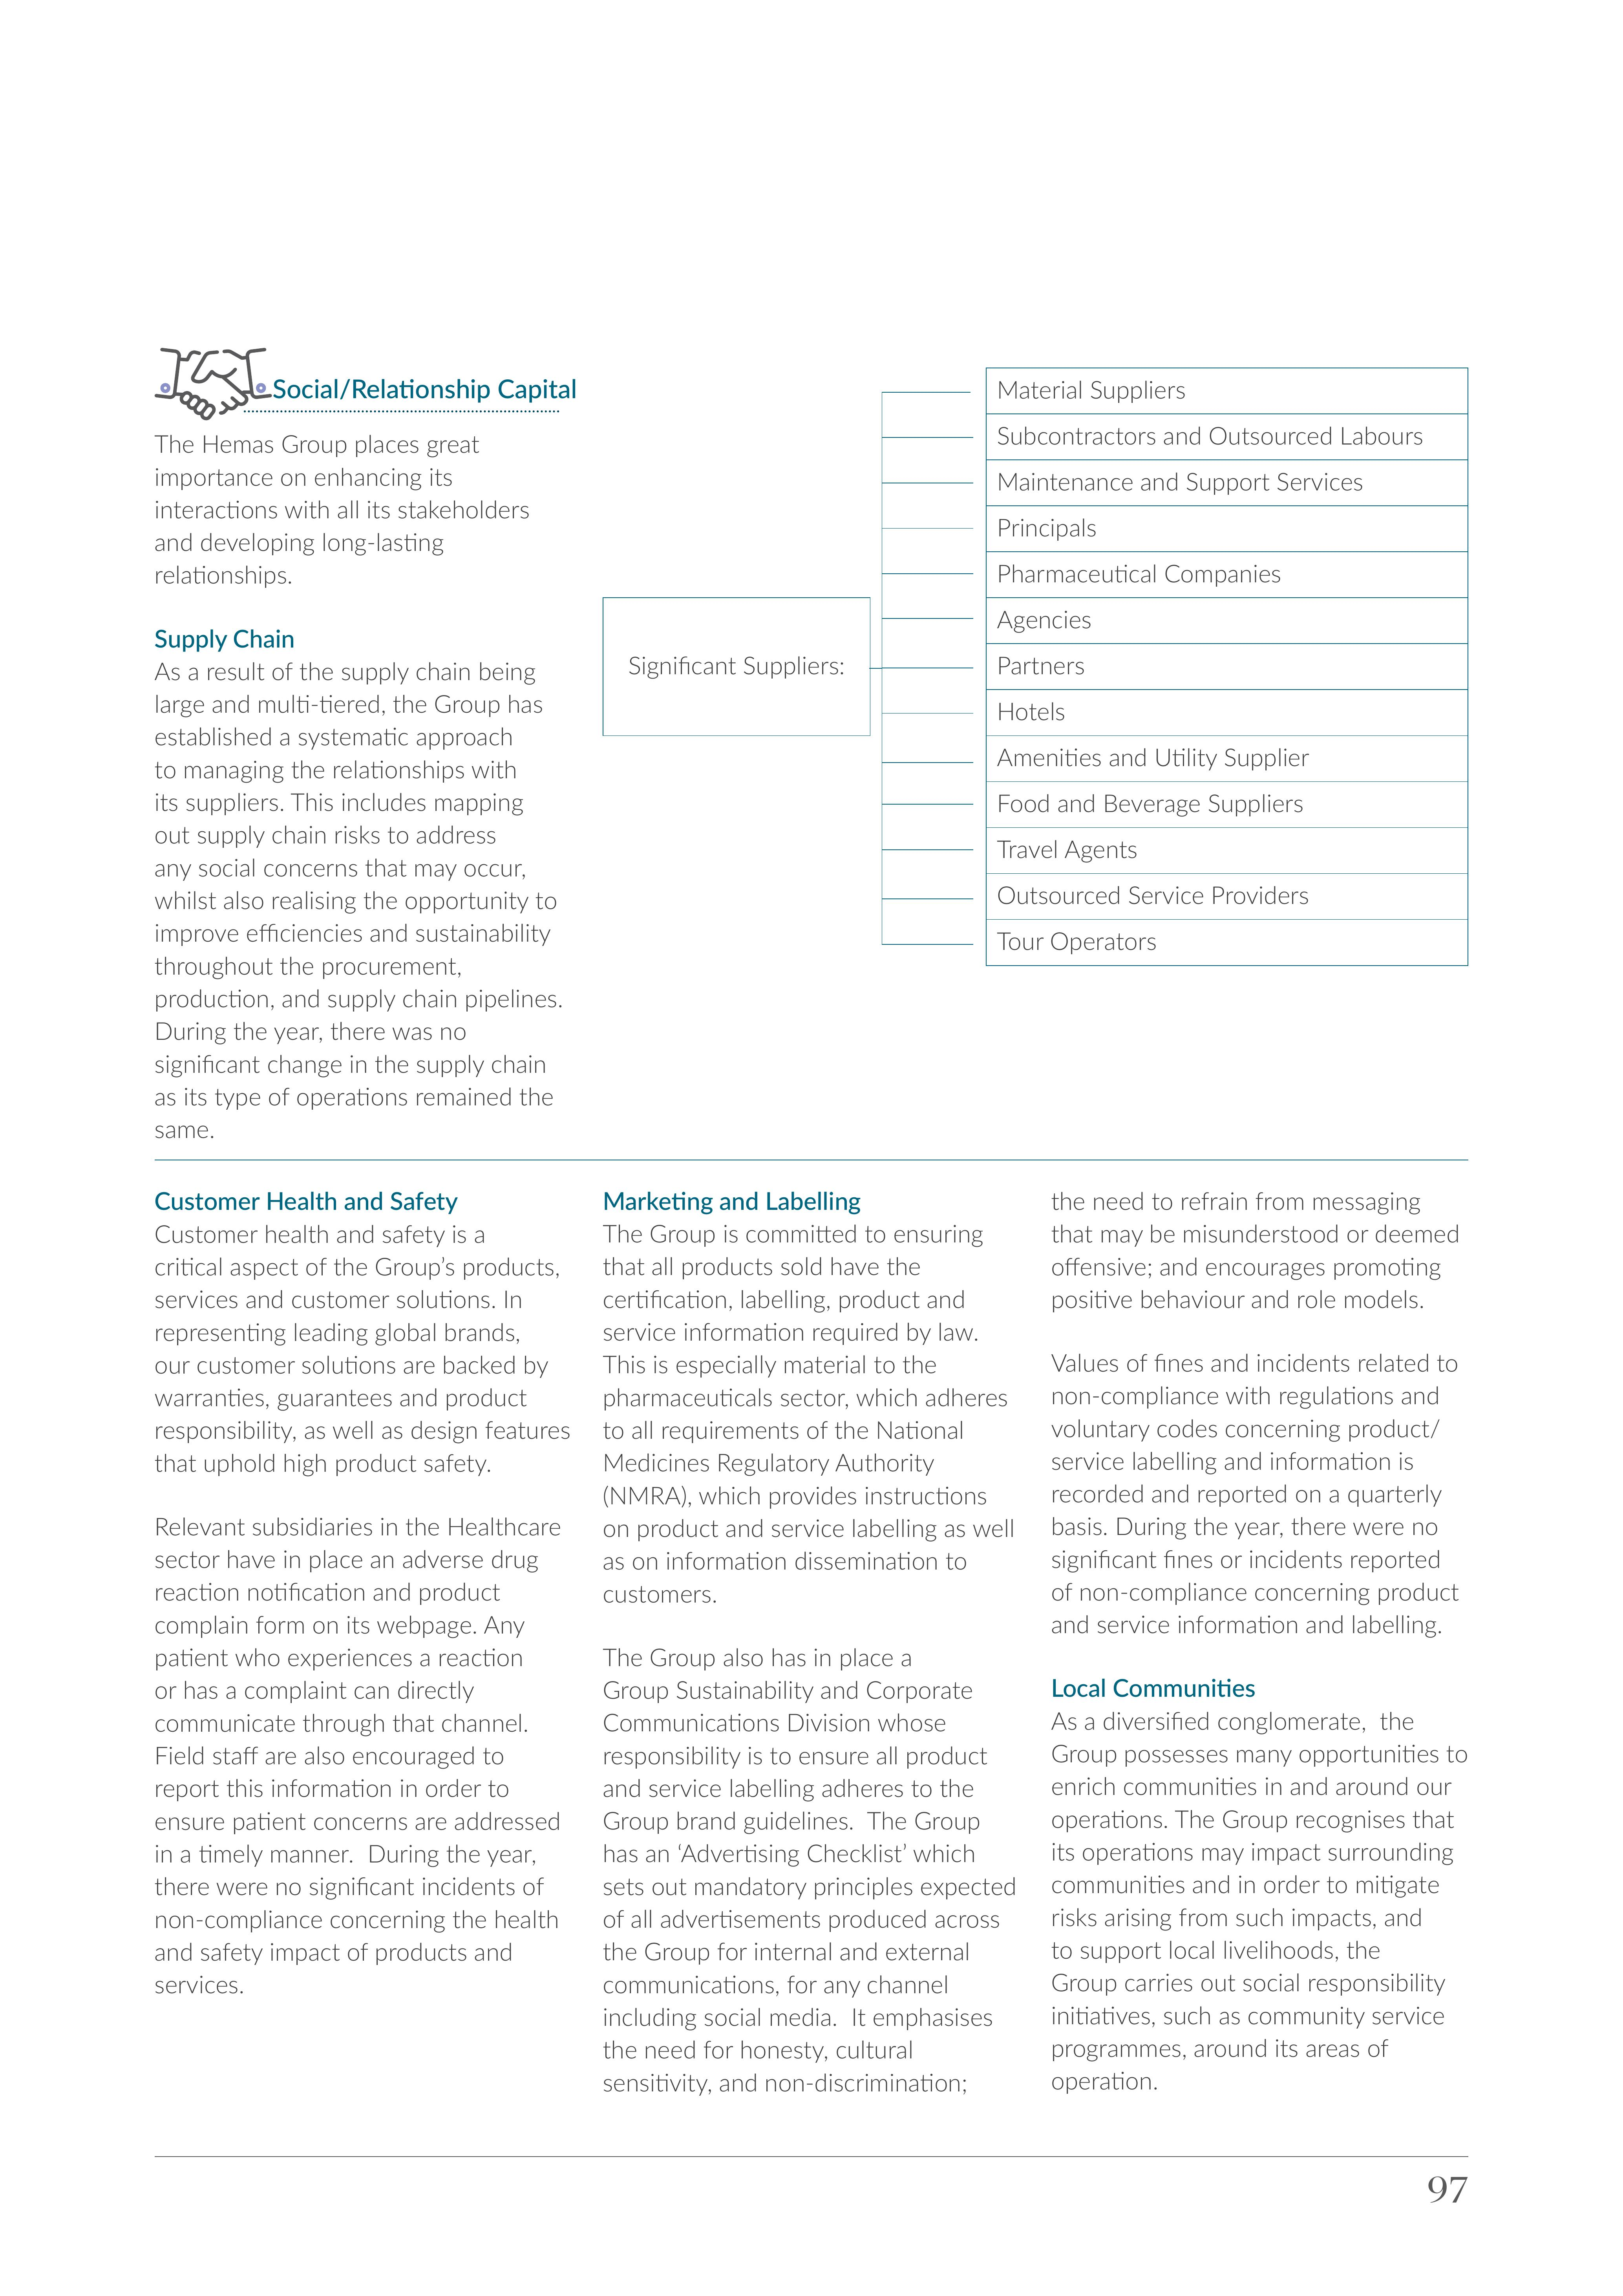table: (980, 362, 1479, 978)
